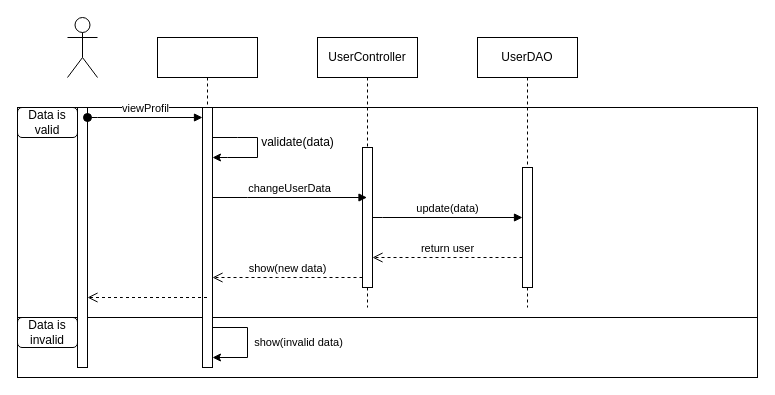
The diagram is 775 pixels wide and 395 high, and some of its shapes have lost their labels. The box of each missing label's shape, as (x1, y1, x2, y2) in pixels:
Profil: (156, 36, 258, 368)
User: (66, 16, 98, 78)
